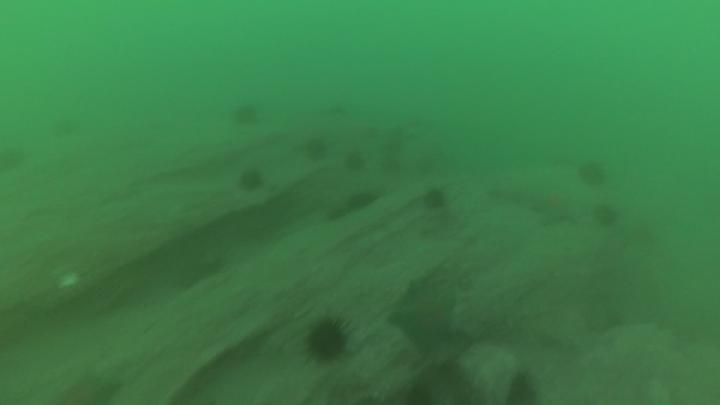echinus: (300, 315, 354, 369), (507, 371, 540, 405), (575, 159, 609, 190), (50, 113, 82, 142), (234, 166, 266, 195), (590, 201, 622, 230), (301, 136, 331, 166), (1, 145, 26, 179), (232, 100, 260, 129), (347, 191, 381, 213), (421, 187, 448, 212), (342, 153, 368, 173), (378, 155, 403, 175)
starfish: (63, 372, 127, 405)
